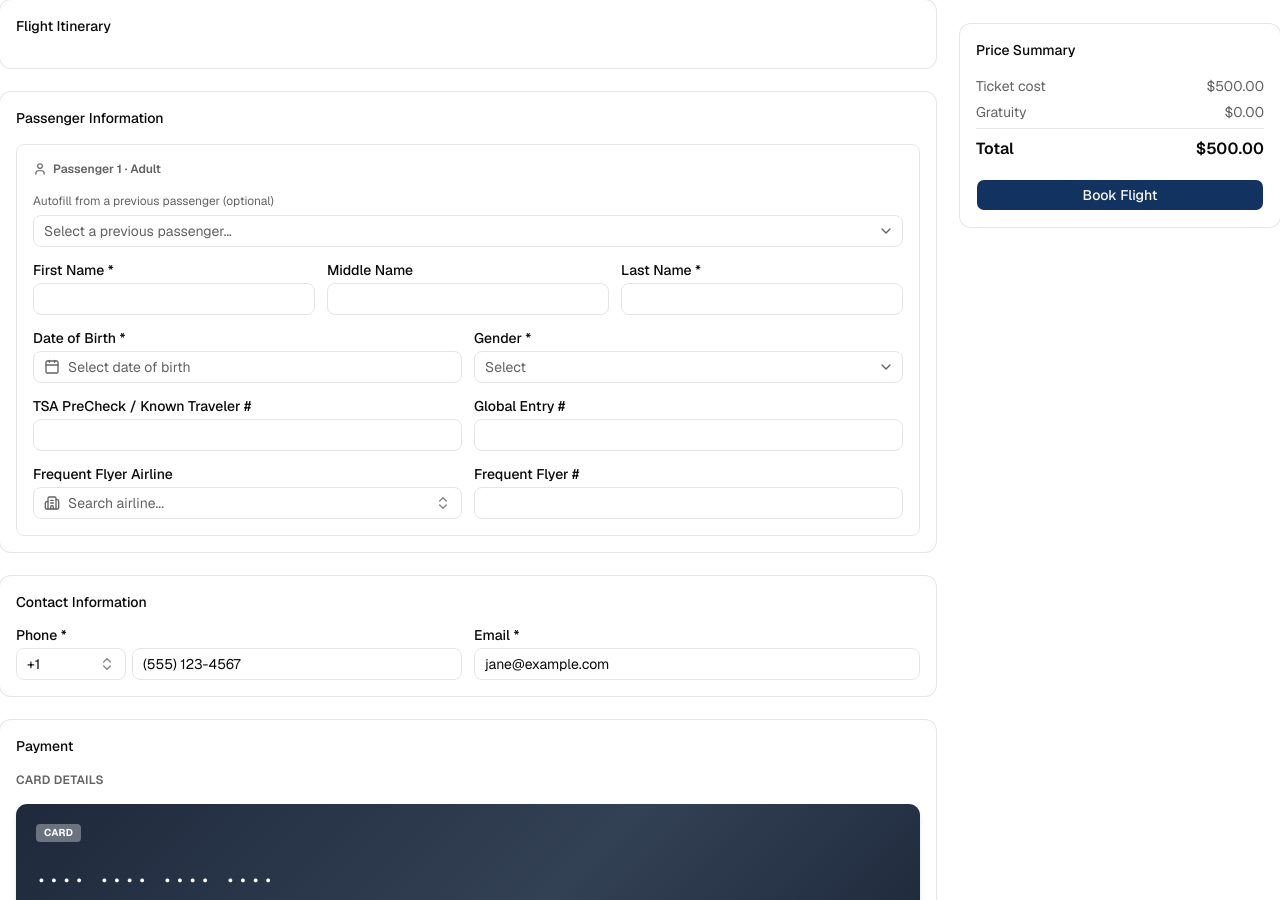
Scenario: BookingFlow — previous-passenger selector (Pass 24/25) › selecting a previous passenger populates every available field
The image size is (1280, 900).
Click the dropdown named "autofill from a previous passenger": {"x": 138, "y": 231} [33,215,903,247]
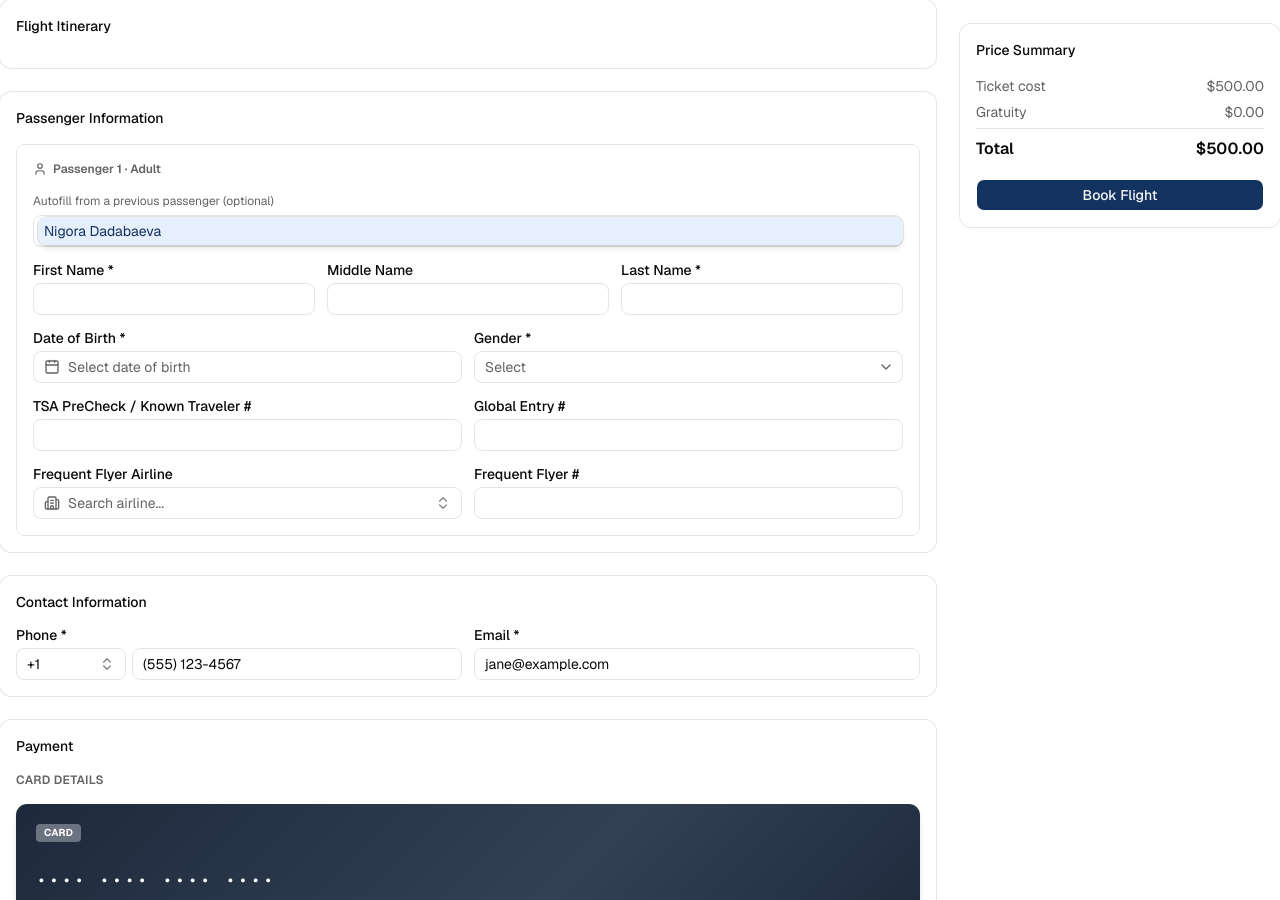
Click the option "Nigora Dadabaeva": {"x": 65, "y": 231} [38,217,903,245]
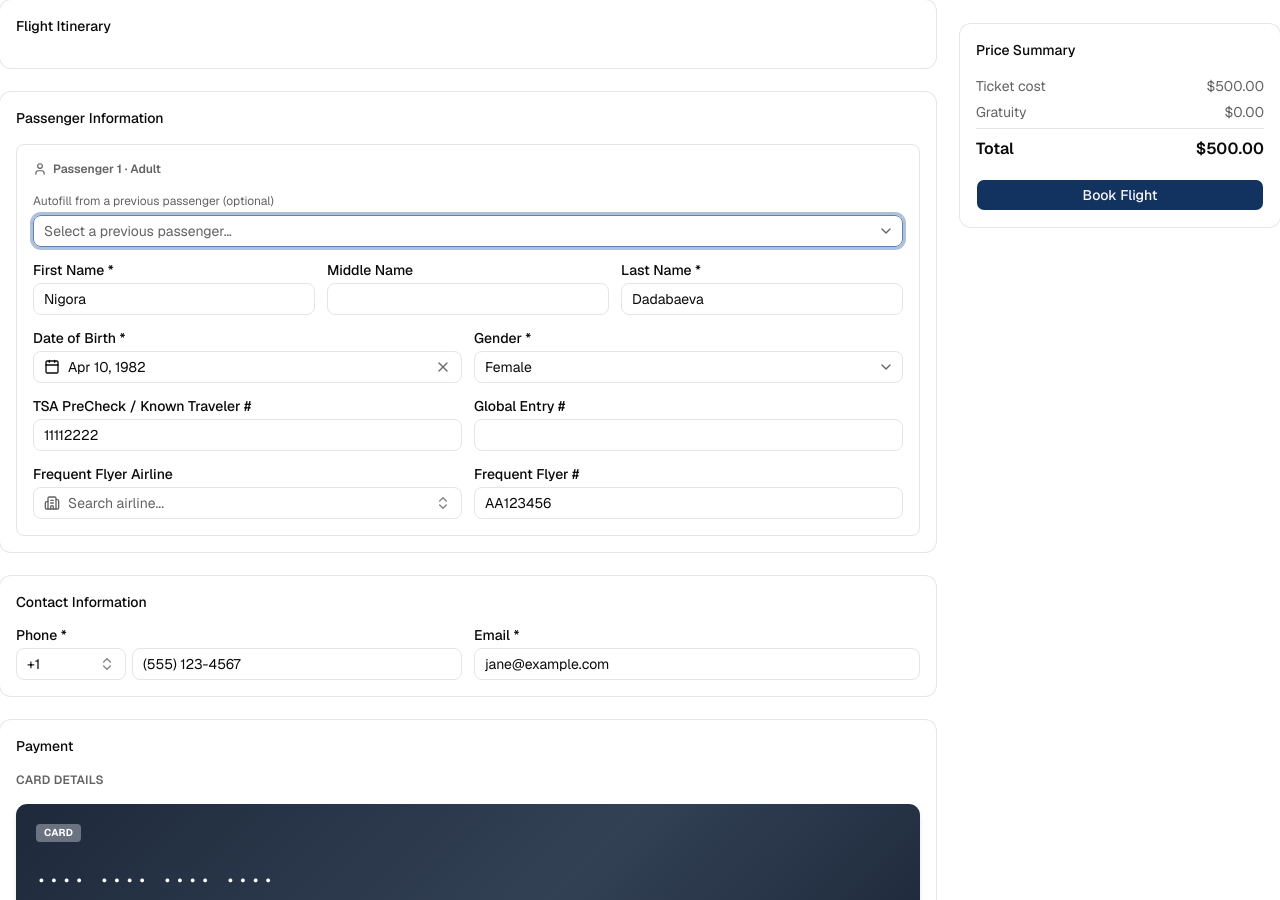
Check: the field showing "Nigora" is shown, box [33,283,315,315]
Check: the field showing "Dadabaeva" is shown, box [621,283,903,315]
Check: the field showing "11112222" is shown, box [33,419,462,451]
